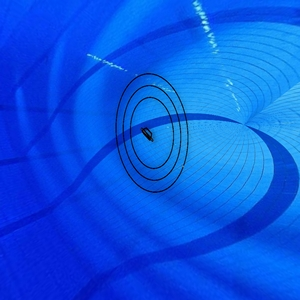circle: (113, 70, 192, 197)
submarine: (139, 123, 163, 149)
